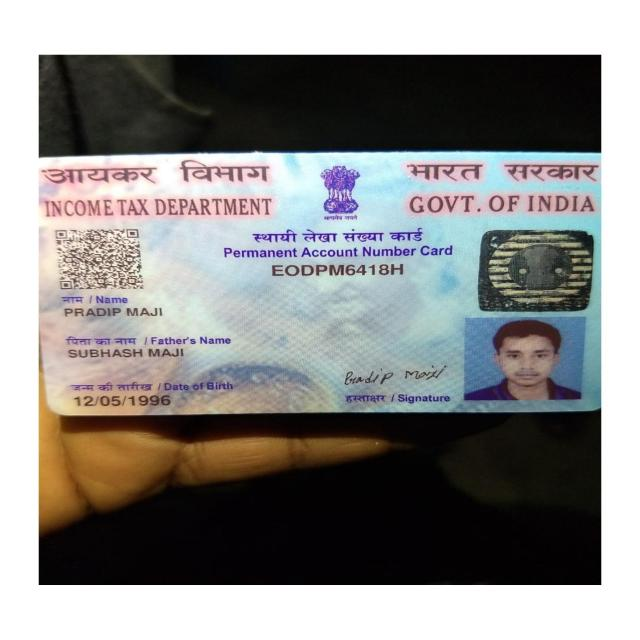pan_card: (34, 153, 601, 413)
